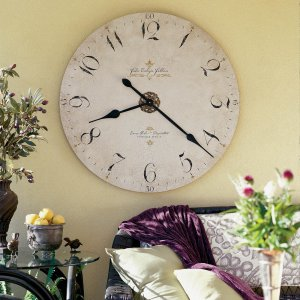clock: (59, 12, 240, 192)
